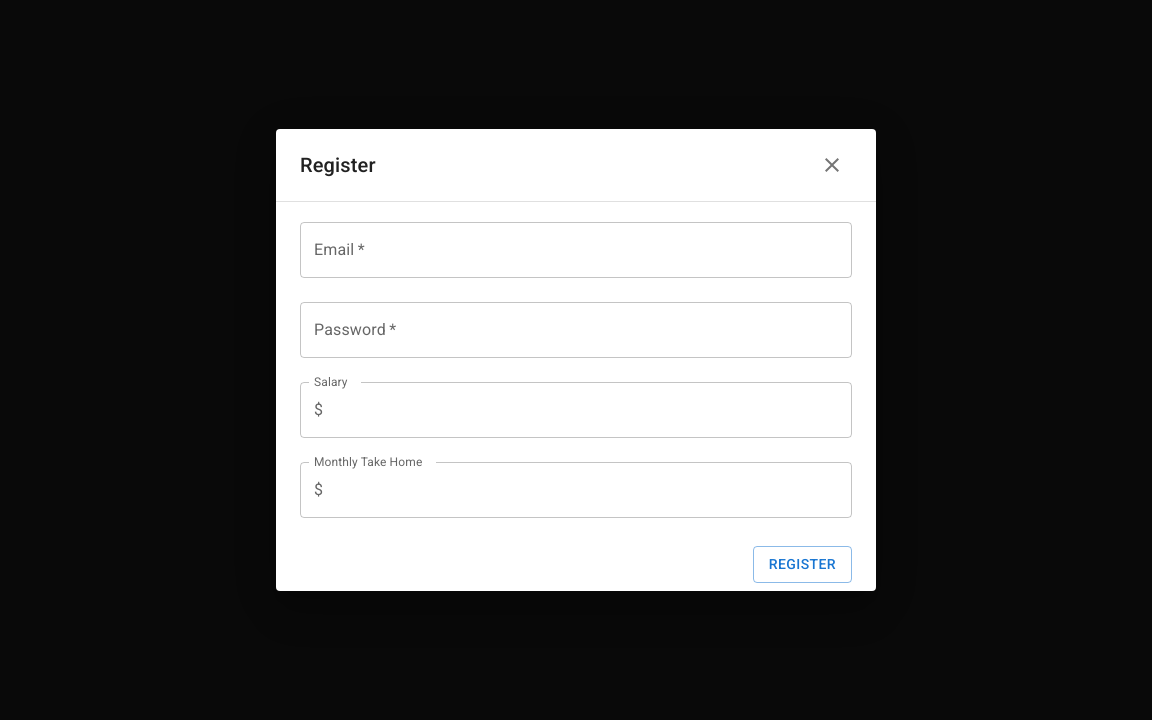
RegisterDialog › Form Validation › Shows email validation error when email is invalid
Type "notanemail" into the field labelled "Email *" at (576, 250), box [300,222,852,278]
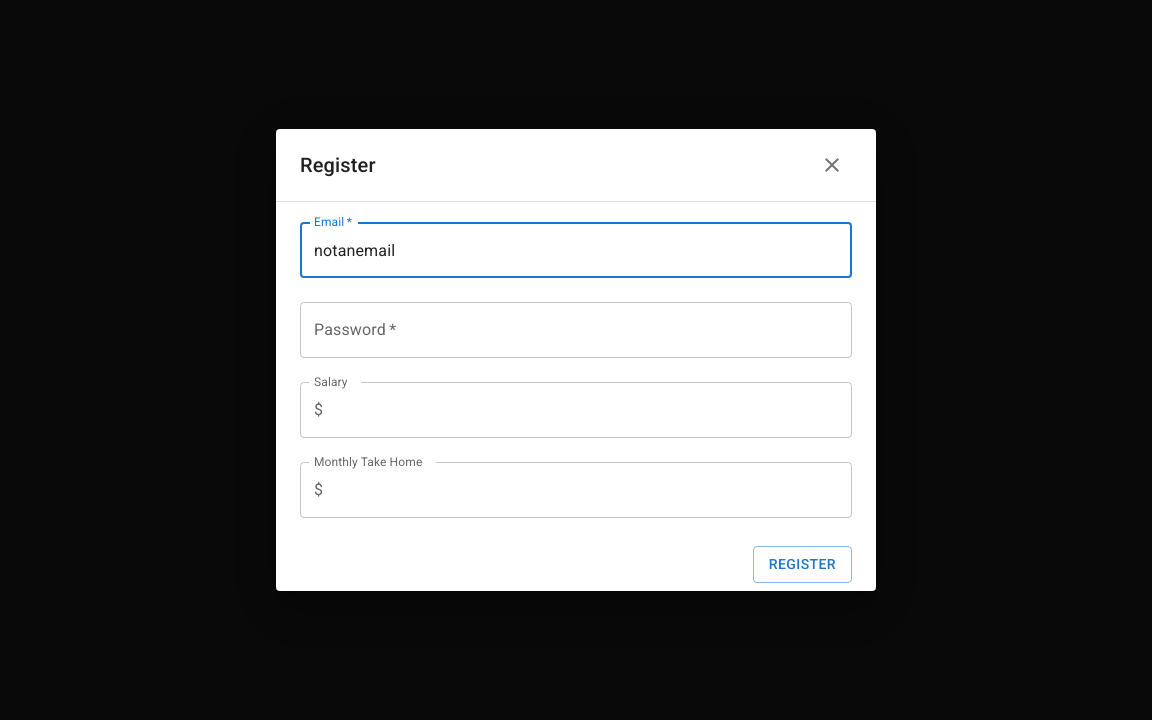
Leave the field labelled "Email *", box [300,222,852,278]
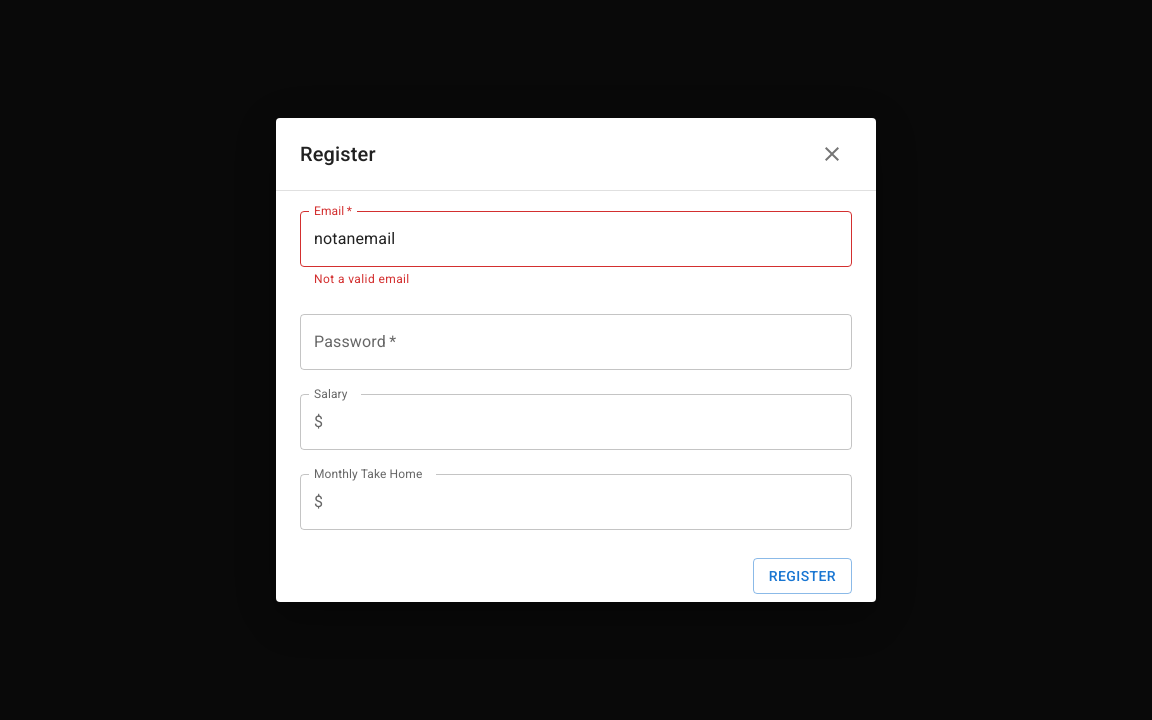
Expected: the text "Not a valid email" is shown, [314,272,410,286]
